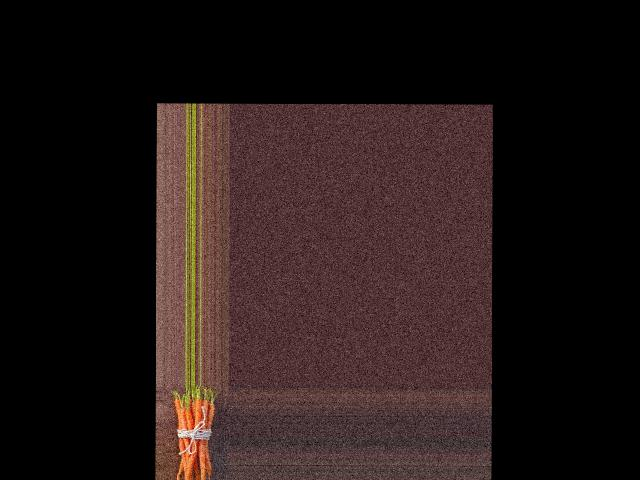carrot: (206, 395, 216, 474)
